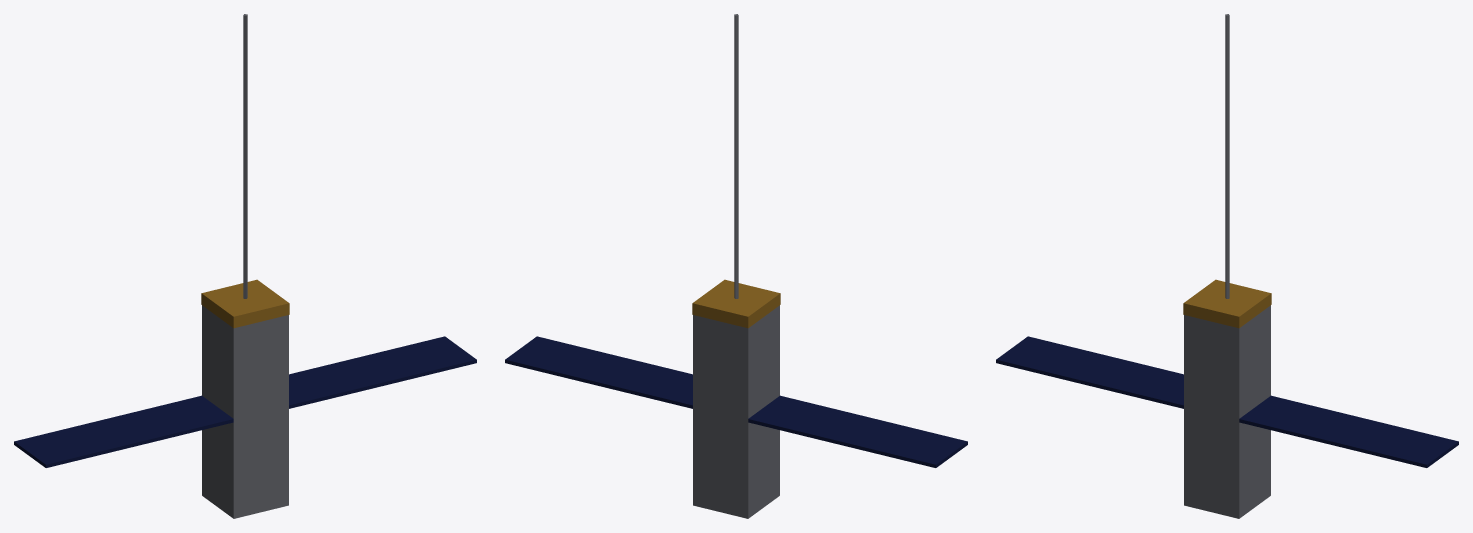
Rendered from cubesat.glb.
3 renders of one model, left to right at view 1: azimuth 30°, elevation 25°; view 2: azimuth 150°, elevation 25°; view 3: azimuth 330°, elevation 25°, orthographic.
Visible parts, largest first — view 1: cubesat; view 2: cubesat; view 3: cubesat.
Boxes of the visible parts, bbox=[...] form: cubesat: bbox=[14, 14, 476, 518]; cubesat: bbox=[505, 14, 967, 518]; cubesat: bbox=[996, 14, 1458, 518].
Size of the model in its own units: 0.78 by 0.84 by 0.101.
